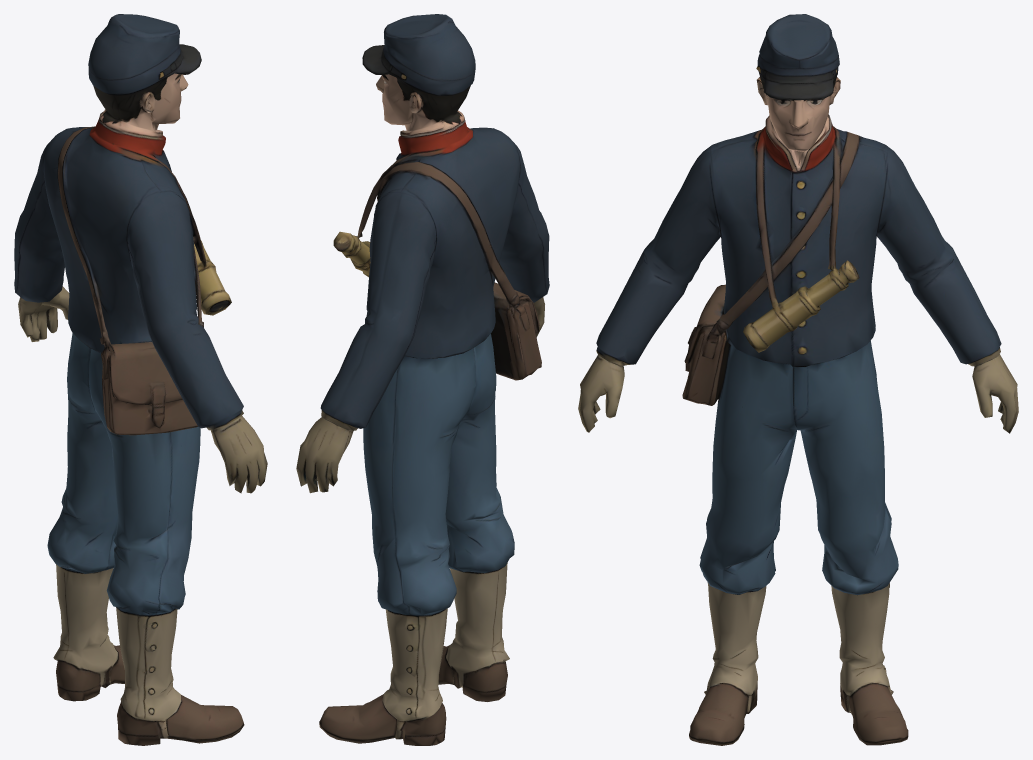
Rendered from 90e351e1-2a12-4b3a-9de0-62a7ce89b68f_model_url.glb.
The picture shows the model from 3 angles, left to right: view 1: azimuth 30°, elevation 25°; view 2: azimuth 150°, elevation 25°; view 3: azimuth 270°, elevation 25°; orthographic projection.
Parts seen in each view (by area): view 1: tripo_node_90e351e1-2a12-4b3a-9de0-62a7ce89b68f; view 2: tripo_node_90e351e1-2a12-4b3a-9de0-62a7ce89b68f; view 3: tripo_node_90e351e1-2a12-4b3a-9de0-62a7ce89b68f.
Part boxes in pixels (box(x1,y1,x2,y2)): tripo_node_90e351e1-2a12-4b3a-9de0-62a7ce89b68f: box(14, 14, 267, 745); tripo_node_90e351e1-2a12-4b3a-9de0-62a7ce89b68f: box(296, 14, 549, 745); tripo_node_90e351e1-2a12-4b3a-9de0-62a7ce89b68f: box(578, 14, 1018, 745).
Size of the model in its own units: 0.2165 by 1 by 0.5723.
Materials: 1 (1 with a texture image).
